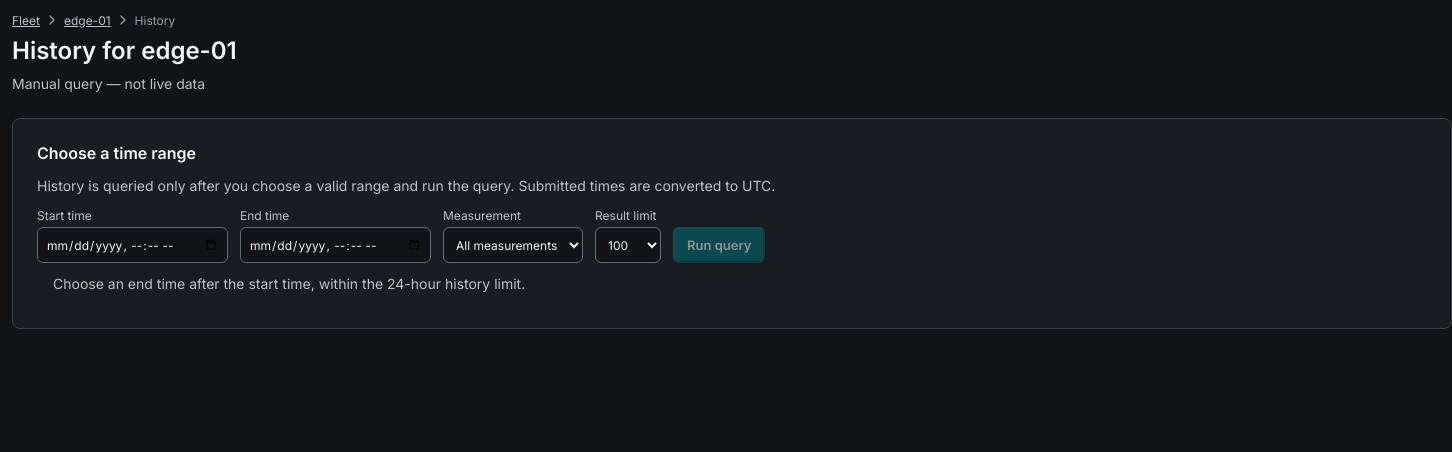
Scenario: does not query history until a valid range is explicitly submitted
Type "2026-09-12T09:00" into the field labelled "Start time" at (132, 245), box x1=37 y1=227 x2=228 y2=263
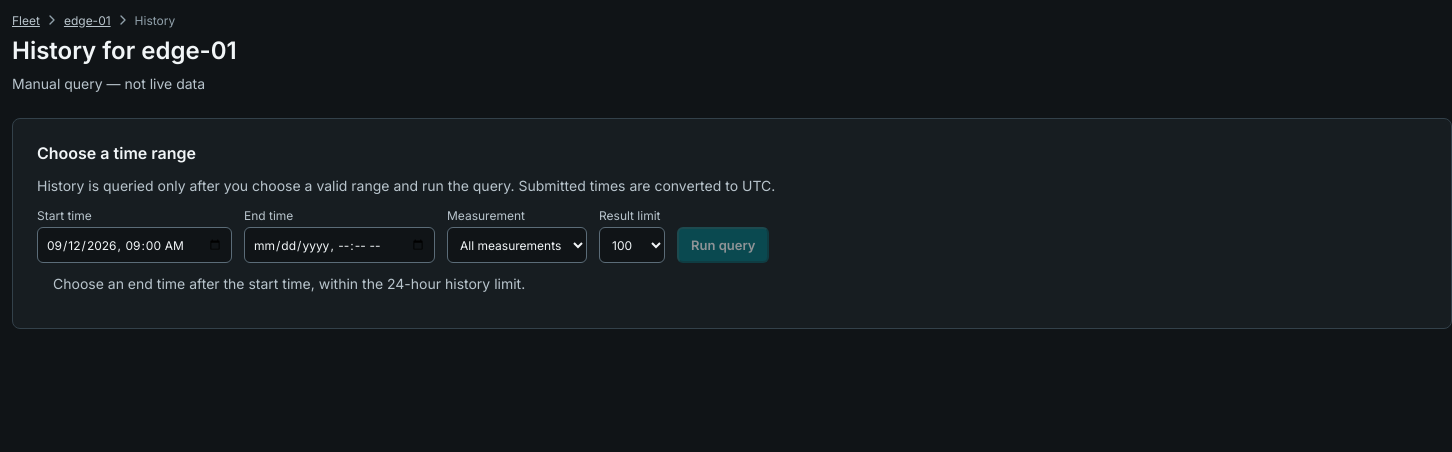
Type "2026-09-12T10:00" into the field labelled "End time" at (340, 245), box x1=244 y1=227 x2=435 y2=263
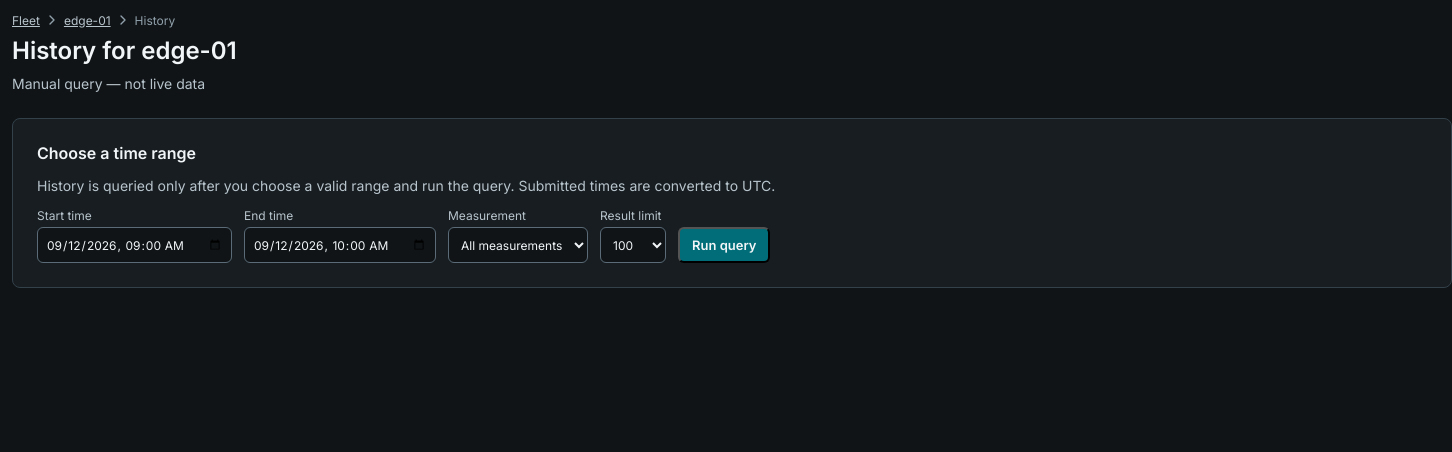
Click the button "Run query" at (724, 245), box x1=678 y1=227 x2=770 y2=263
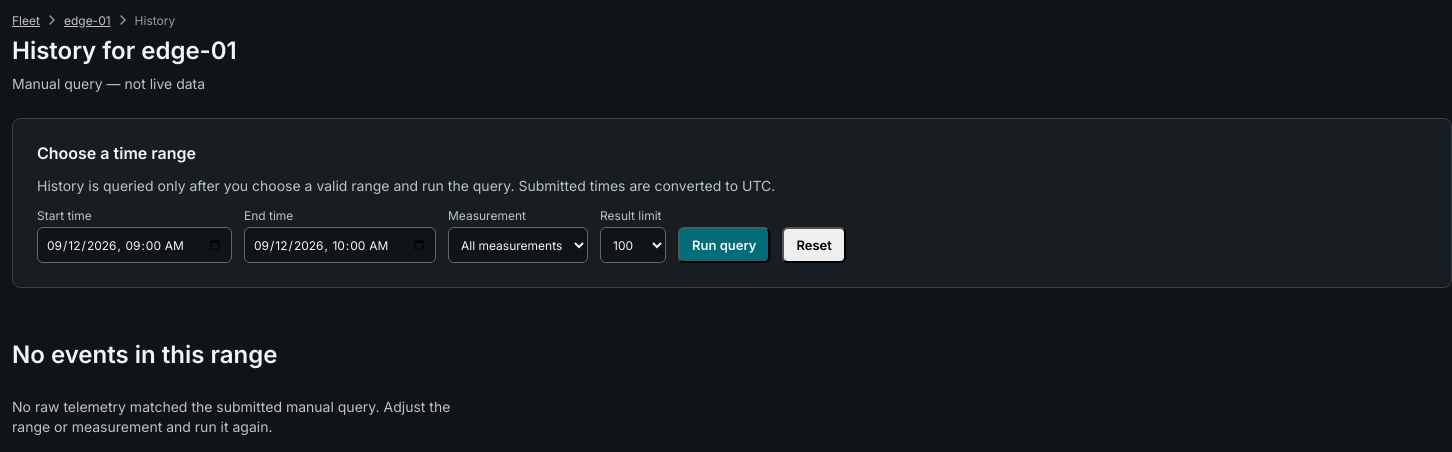
Now the heading "No events in this range" is shown, box x1=12 y1=340 x2=277 y2=369
